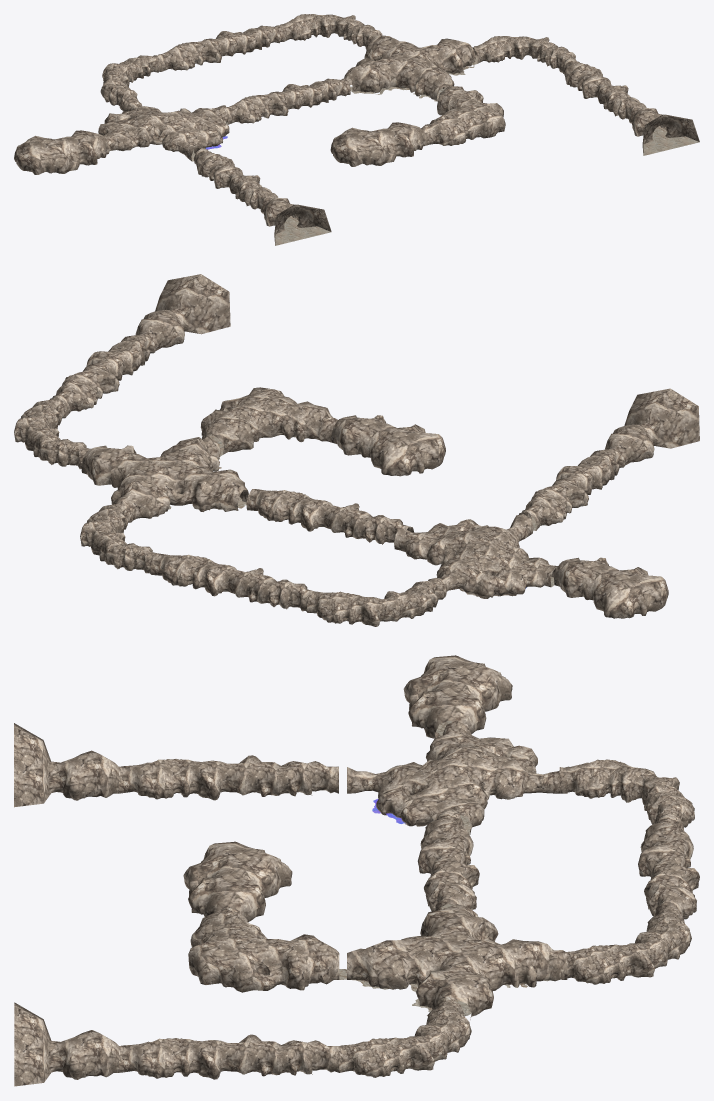
The model's file is dungeonBack.FBX.
3 views of the same model, one above another, from view 1: azimuth 30°, elevation 25°; view 2: azimuth 150°, elevation 25°; view 3: azimuth 270°, elevation 25° (orthographic). The views are drawn at different scales.
Visible parts, largest first — view 1: Caves_X1_wall, Caves_X2_wall, Caves_L2_wall, Caves_U_wall001, Caves_U_wall, Caves_I_wall001, Caves_I_wall002, Caves_I_wall, Caves_I_wall003, Caves_L_wall, Caves_L_wall001, Caves_L_wall002 (+4 smaller); view 2: Caves_X1_wall, Caves_X2_wall, Caves_L2_wall, Caves_U_wall, Caves_U_wall001, Caves_I_wall002, Caves_E_wall, Caves_E_wall001, Caves_I_wall001, Caves_L_wall002, Caves_I_wall003, Caves_I_wall (+2 smaller); view 3: Caves_X1_wall, Caves_X2_wall, Caves_L2_wall, Caves_I_wall, Caves_I_wall003, Caves_U_wall001, Caves_U_wall, Caves_E_wall, Caves_E_wall001, Caves_L_wall, Caves_L_wall001, Caves_L_wall002 (+2 smaller).
Part boxes in pixels (bbox=[...]): Caves_X1_wall: bbox=[344, 34, 475, 101]; Caves_X2_wall: bbox=[98, 94, 229, 161]; Caves_L2_wall: bbox=[421, 86, 505, 145]; Caves_U_wall001: bbox=[14, 130, 109, 174]; Caves_U_wall: bbox=[330, 122, 425, 166]; Caves_I_wall001: bbox=[224, 78, 350, 124]; Caves_I_wall002: bbox=[157, 25, 284, 71]; Caves_I_wall: bbox=[562, 58, 646, 123]; Caves_I_wall003: bbox=[194, 148, 278, 213]; Caves_L_wall: bbox=[472, 36, 575, 72]; Caves_L_wall001: bbox=[280, 14, 382, 49]; Caves_L_wall002: bbox=[100, 55, 161, 109]; Caves_X1_wall: bbox=[81, 436, 248, 522]; Caves_X2_wall: bbox=[394, 514, 557, 599]; Caves_L2_wall: bbox=[200, 387, 337, 454]; Caves_U_wall: bbox=[331, 415, 445, 476]; Caves_U_wall001: bbox=[554, 557, 668, 618]; Caves_I_wall002: bbox=[150, 553, 314, 612]; Caves_E_wall: bbox=[135, 274, 230, 350]; Caves_E_wall001: bbox=[605, 388, 699, 464]; Caves_I_wall001: bbox=[246, 489, 414, 544]; Caves_L_wall002: bbox=[307, 578, 446, 626]; Caves_I_wall003: bbox=[519, 445, 627, 530]; Caves_I_wall: bbox=[52, 331, 157, 415]; Caves_X1_wall: bbox=[347, 904, 567, 1019]; Caves_X2_wall: bbox=[347, 720, 567, 834]; Caves_L2_wall: bbox=[188, 906, 339, 992]; Caves_I_wall: bbox=[119, 1034, 339, 1079]; Caves_I_wall003: bbox=[119, 755, 338, 800]; Caves_U_wall001: bbox=[403, 655, 512, 738]; Caves_U_wall: bbox=[183, 841, 292, 921]; Caves_E_wall: bbox=[14, 1002, 118, 1086]; Caves_E_wall001: bbox=[14, 723, 118, 807]; Caves_L_wall: bbox=[339, 1000, 471, 1077]; Caves_L_wall001: bbox=[559, 906, 691, 984]; Caves_L_wall002: bbox=[559, 759, 694, 827].
Bounding box in the file's own units: 9997 × 7089 × 671.
